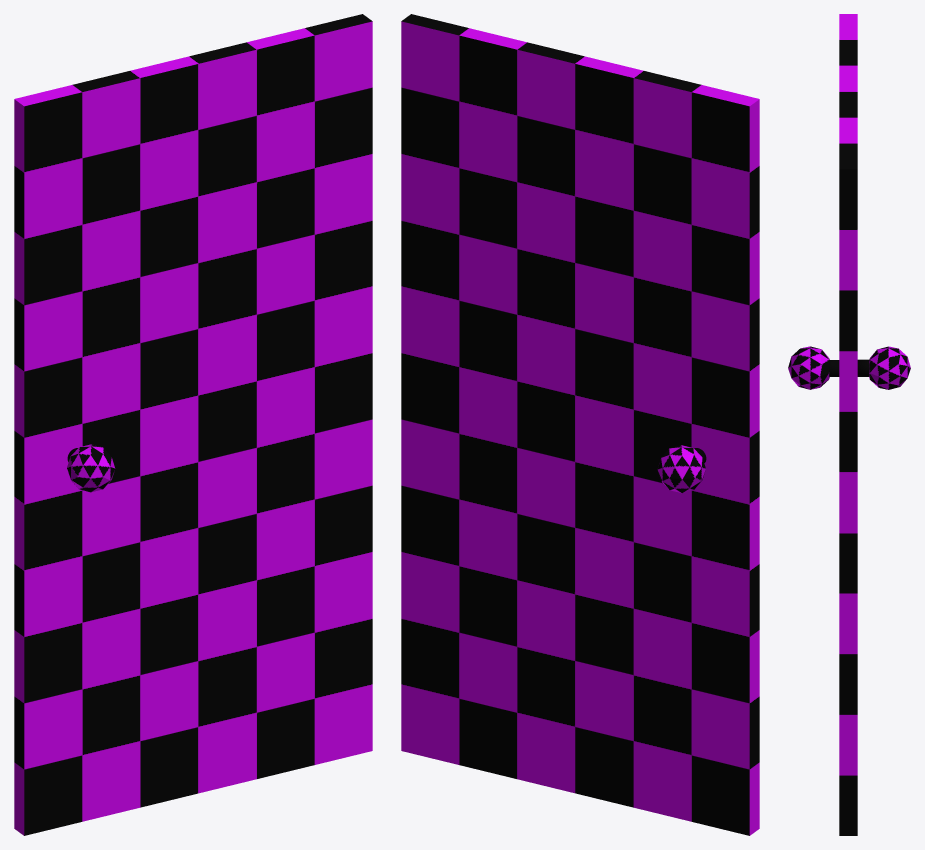
Rendered from door_lost_texture.fbx.
3 renders of one model, left to right at view 1: azimuth 30°, elevation 25°; view 2: azimuth 150°, elevation 25°; view 3: azimuth 270°, elevation 25°, orthographic. The views are drawn at different scales.
Parts seen in each view (by area): view 1: mesh_DoorTexture; view 2: mesh_DoorTexture; view 3: mesh_DoorTexture.
Part boxes in pixels (left/top/right/bottom): mesh_DoorTexture: left=14, top=14, right=372, bottom=835; mesh_DoorTexture: left=401, top=14, right=759, bottom=835; mesh_DoorTexture: left=788, top=14, right=910, bottom=835.
Bounding box in the file's own units: 1 × 2 × 0.3342.
1 material, 1 textured.
